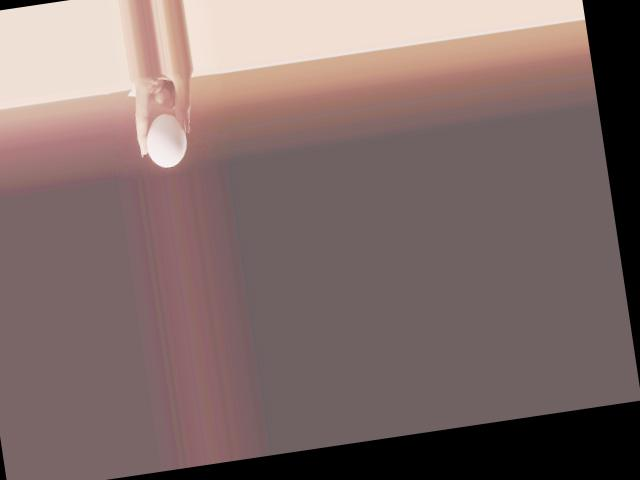egg: (142, 110, 190, 170)
